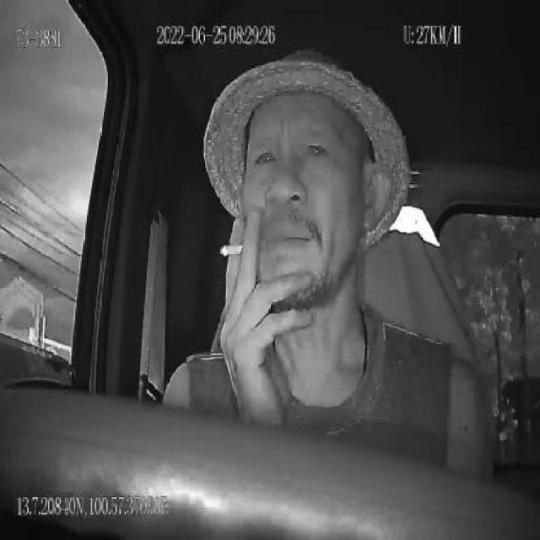smoking: (218, 240, 244, 259)
